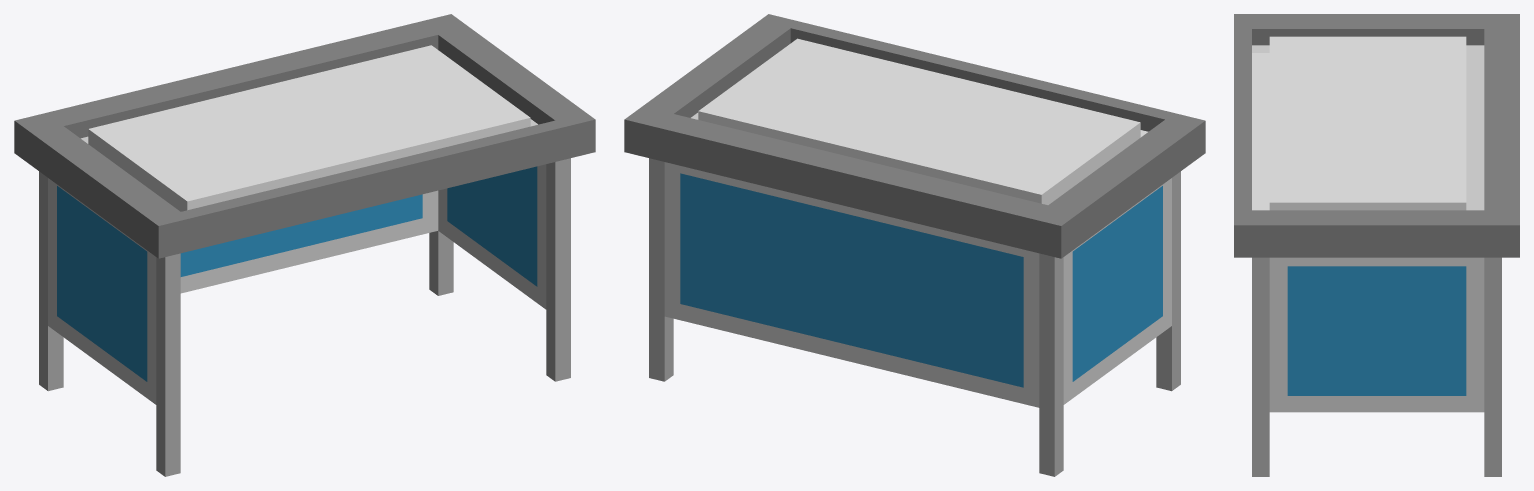
The model's file is obj_busstop.obj.
3 renders of one model, left to right at view 1: azimuth 30°, elevation 25°; view 2: azimuth 150°, elevation 25°; view 3: azimuth 270°, elevation 25°, orthographic.
Bounding box in the file's own units: 2.8 × 1.6 × 1.6.
1 material, 1 textured.
